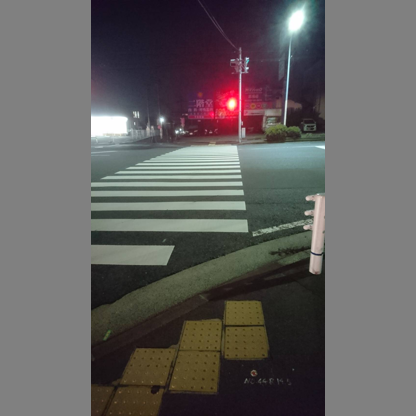brailleblock: (166, 349, 222, 394), (124, 347, 176, 386), (177, 318, 223, 352), (225, 325, 268, 361), (106, 391, 164, 416), (224, 299, 264, 325)
crosswalk: (115, 170, 251, 236), (90, 181, 179, 269), (137, 160, 244, 206), (155, 153, 239, 176)
signal: (223, 95, 238, 113)
